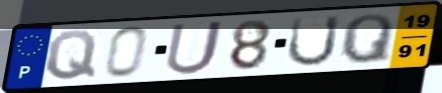0: (101, 24, 154, 80)
8: (228, 18, 273, 72)
Q: (338, 12, 395, 66), (44, 28, 99, 82)
U: (162, 19, 227, 77), (284, 14, 343, 69)
